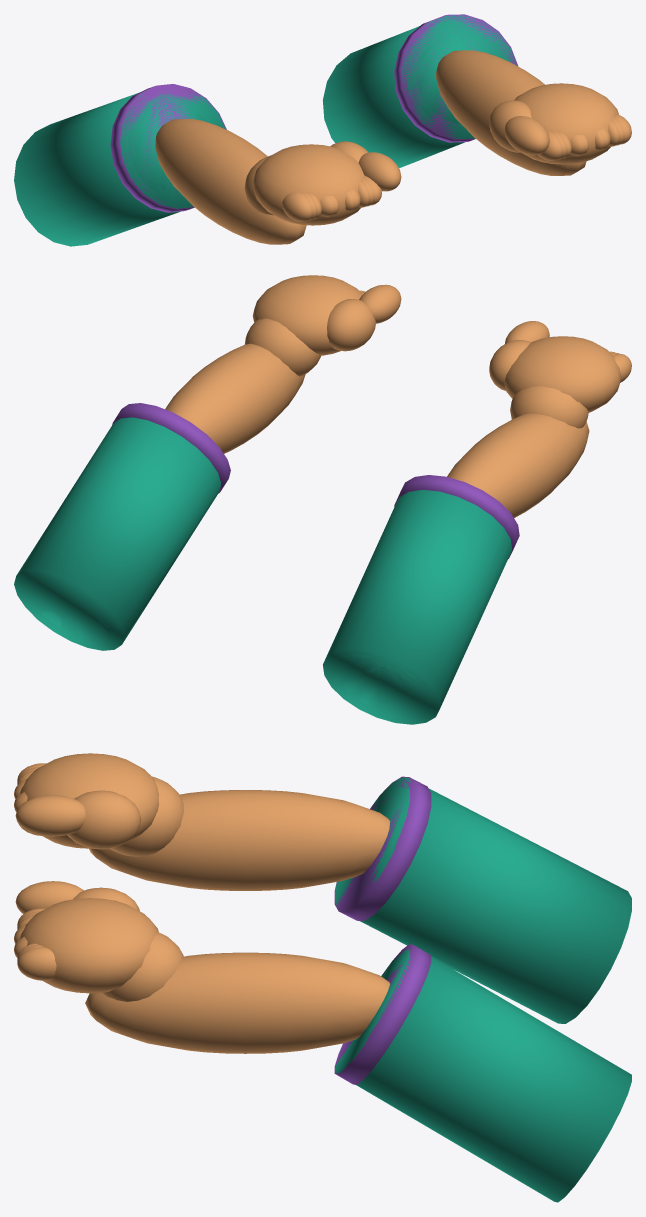
The model's file is FestivalHands.fbx.
3 views of the same model, one above another, from view 1: azimuth 30°, elevation 25°; view 2: azimuth 150°, elevation 25°; view 3: azimuth 270°, elevation 25° (orthographic). The views are drawn at different scales.
Parts seen in each view (by area): view 1: HandsSkin_2, HandsSleeve_1, HandsSleeve_3, HandsSleeve_0, HandsSleeve_2, HandsSkin_0, HandsSkin_1; view 2: HandsSleeve_1, HandsSkin_2, HandsSleeve_3, HandsSleeve_0, HandsSleeve_2; view 3: HandsSkin_2, HandsSleeve_1, HandsSleeve_3, HandsSleeve_0.
Boxes of the visible parts, <box> form: HandsSkin_2: <box>155,50,631,244</box>; HandsSleeve_1: <box>14,15,516,246</box>; HandsSleeve_3: <box>110,14,518,212</box>; HandsSleeve_0: <box>128,24,505,193</box>; HandsSleeve_2: <box>134,31,498,189</box>; HandsSkin_0: <box>308,120,618,219</box>; HandsSkin_1: <box>301,117,623,220</box>; HandsSleeve_1: <box>14,417,512,724</box>; HandsSkin_2: <box>165,275,631,517</box>; HandsSleeve_3: <box>18,403,519,721</box>; HandsSleeve_0: <box>24,595,431,718</box>; HandsSleeve_2: <box>34,581,423,711</box>; HandsSkin_2: <box>14,753,390,1053</box>; HandsSleeve_1: <box>335,777,631,1202</box>; HandsSleeve_3: <box>334,776,431,1084</box>; HandsSleeve_0: <box>340,787,404,1050</box>.
Size of the model in its own units: 108 by 55.76 by 116.
1 material, 1 textured.
